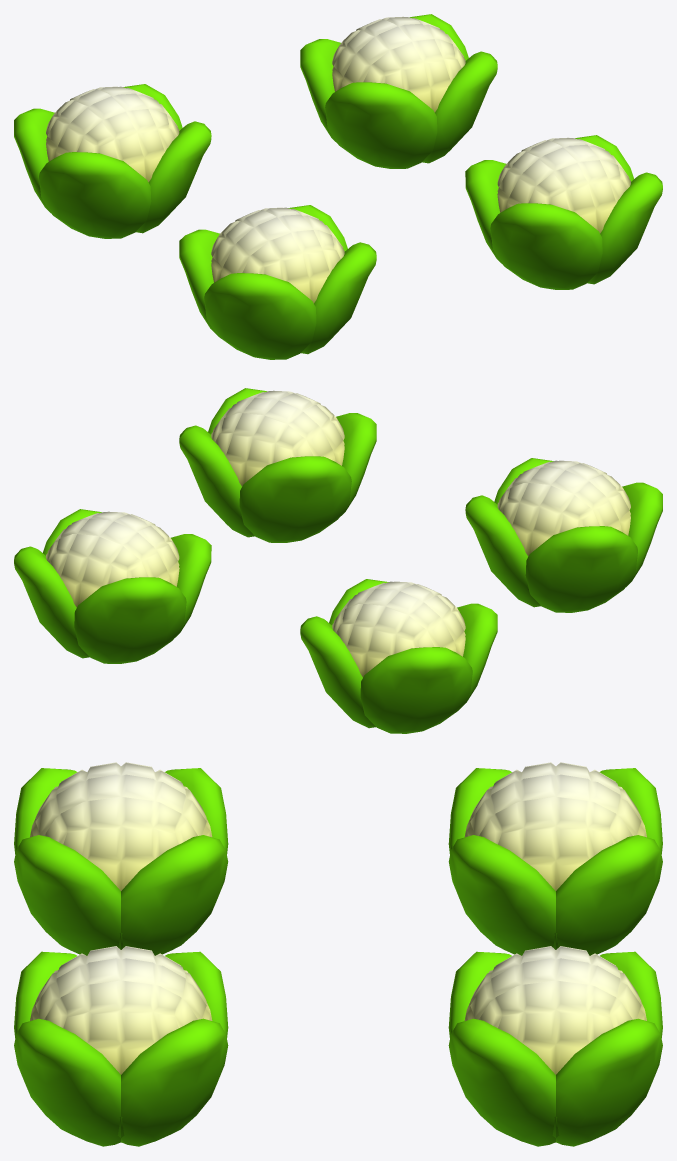
The model's file is Farm_Crop_Cauliflower_Step_02.fbx.
The picture shows the model from 3 angles, top to bottom: view 1: azimuth 30°, elevation 25°; view 2: azimuth 150°, elevation 25°; view 3: azimuth 270°, elevation 25°; orthographic projection. The views are drawn at different scales.
Parts seen in each view (by area): view 1: Farm_Crop_Cauliflower_Step_02; view 2: Farm_Crop_Cauliflower_Step_02; view 3: Farm_Crop_Cauliflower_Step_02.
Part boxes in pixels (x1,y1,x2,y2): Farm_Crop_Cauliflower_Step_02: (14, 14, 662, 359); Farm_Crop_Cauliflower_Step_02: (14, 388, 662, 733); Farm_Crop_Cauliflower_Step_02: (14, 762, 662, 1146).
Bounding box in the file's own units: 154 × 45.41 × 149.
